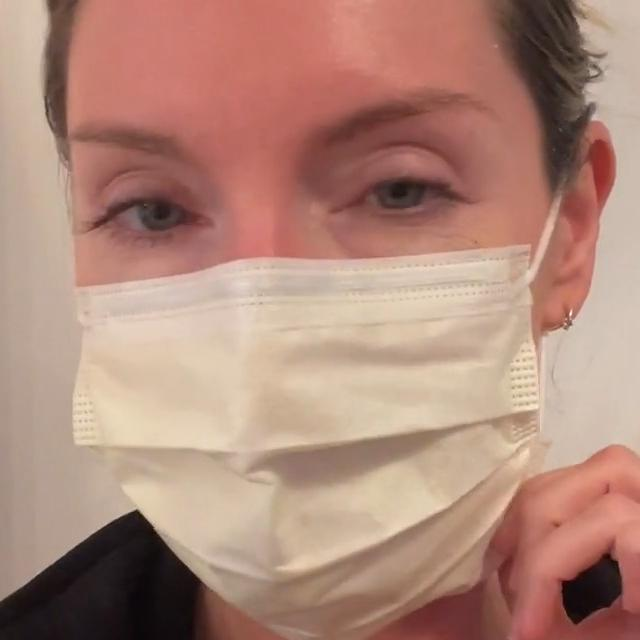Mask: (40, 111, 549, 609)
Person: (0, 0, 640, 640)
